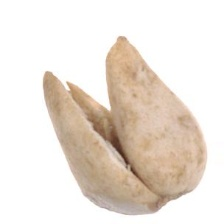L1: (44, 35, 123, 137), (147, 190, 194, 212)
L2: (44, 35, 207, 215)
